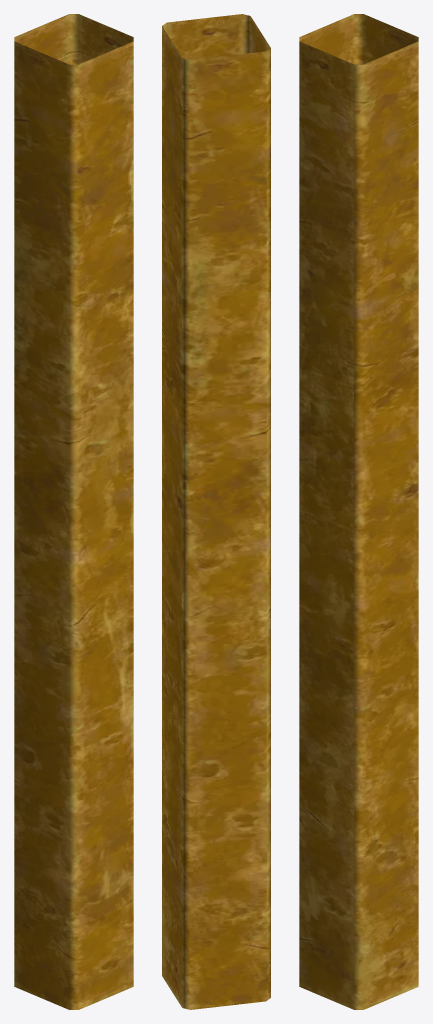
The picture shows the model from 3 angles, left to right: view 1: azimuth 90°, elevation 25°; view 2: azimuth 150°, elevation 25°; view 3: azimuth 270°, elevation 25°; orthographic projection.
Parts seen in each view (by area): view 1: SM_Dragonkin_Pipe_4m_01_v2_LOD0; view 2: SM_Dragonkin_Pipe_4m_01_v2_LOD0; view 3: SM_Dragonkin_Pipe_4m_01_v2_LOD0.
Part boxes in pixels (bbox=[...]): SM_Dragonkin_Pipe_4m_01_v2_LOD0: bbox=[14, 14, 133, 1009]; SM_Dragonkin_Pipe_4m_01_v2_LOD0: bbox=[162, 14, 270, 1009]; SM_Dragonkin_Pipe_4m_01_v2_LOD0: bbox=[299, 14, 418, 1009].
Size of the model in its own units: 0.4585 by 4 by 0.4585.
1 material, 1 textured.
